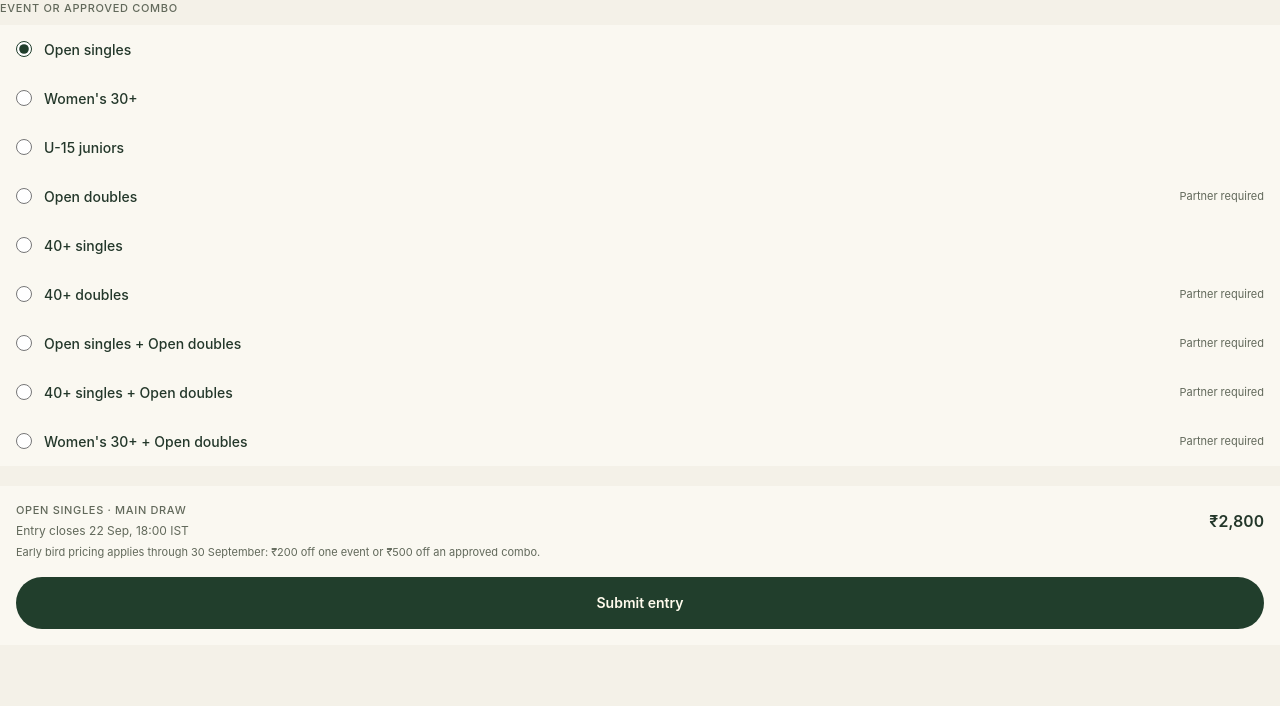
EntryForm › requires a partner and charges 3000 for a 40+ doubles team
The image size is (1280, 706).
Click the radio button labelled "40+ doubles".
click(24, 294)  # box [16, 286, 32, 302]
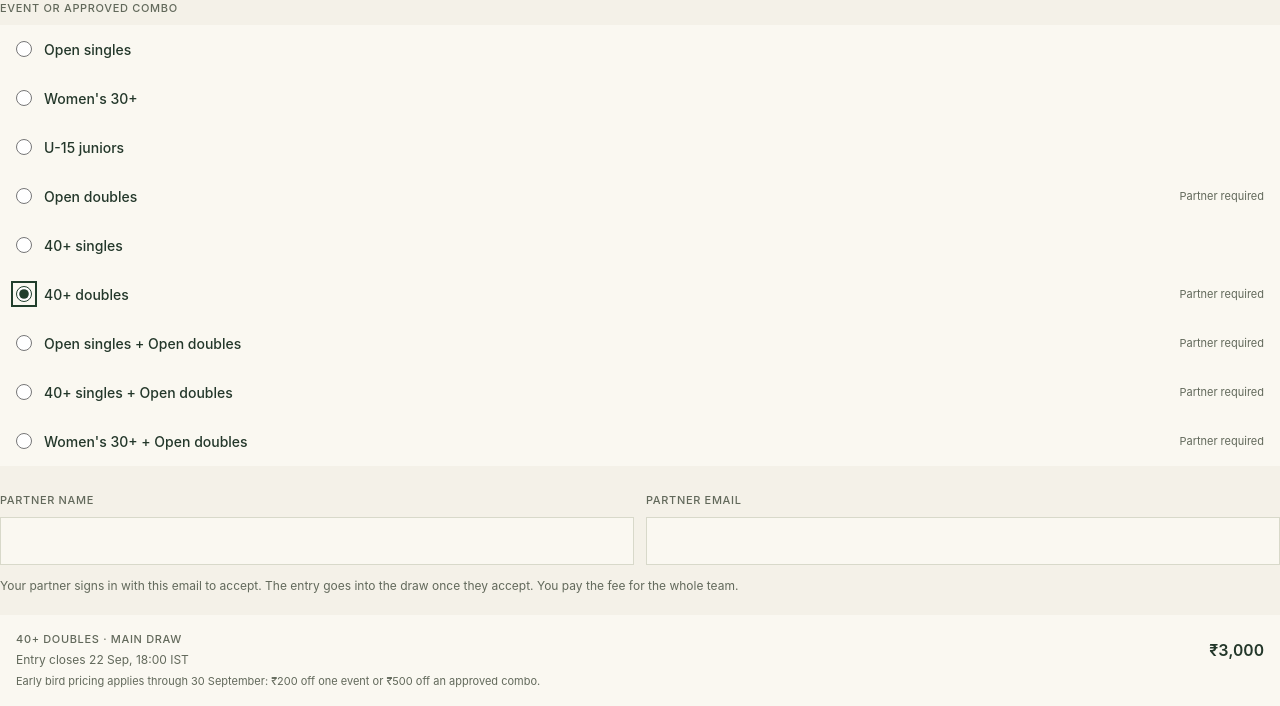
Now the text "₹3,000" is shown, box [1209, 638, 1264, 662]
